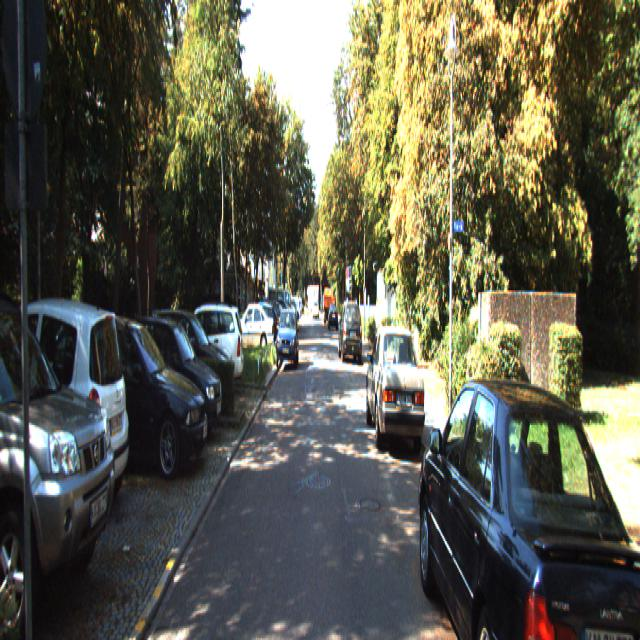Car: (412, 352, 640, 638), (0, 235, 121, 634), (0, 296, 132, 523), (52, 302, 209, 483), (114, 302, 224, 439), (365, 325, 426, 457), (160, 302, 244, 396), (229, 303, 274, 356), (339, 300, 362, 364), (276, 310, 299, 371)
